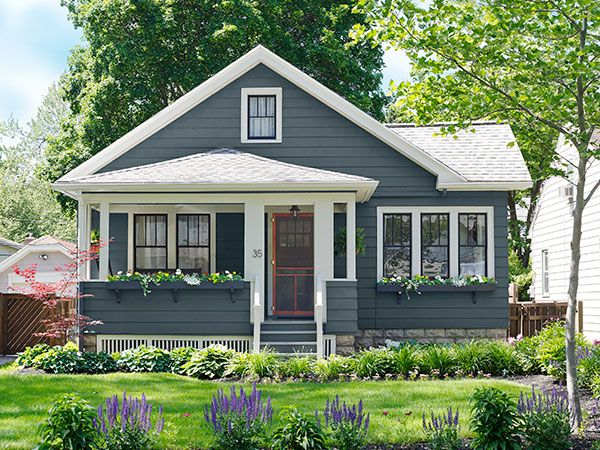Tin-shade House: (50, 30, 525, 342)
